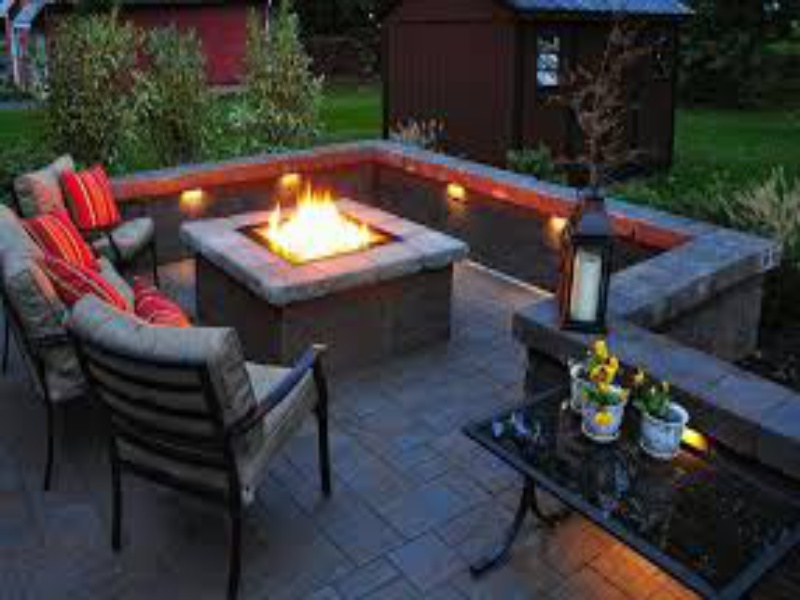fire: (265, 201, 346, 251), (348, 223, 369, 247)
